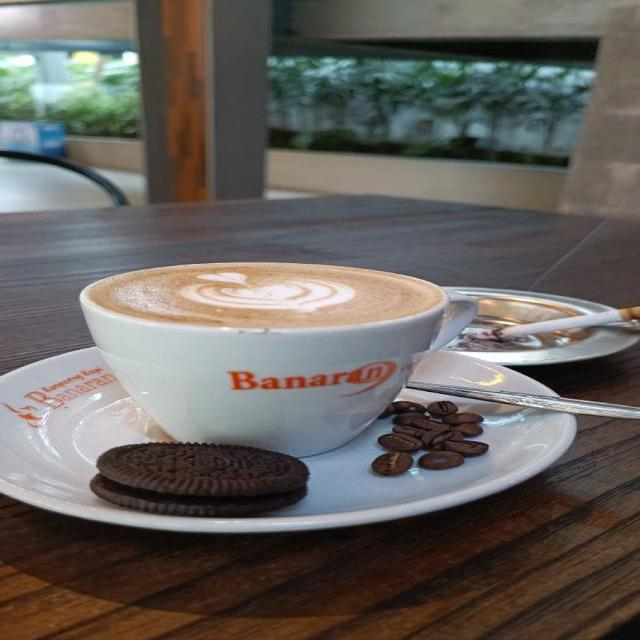rokok: (487, 302, 640, 341)
